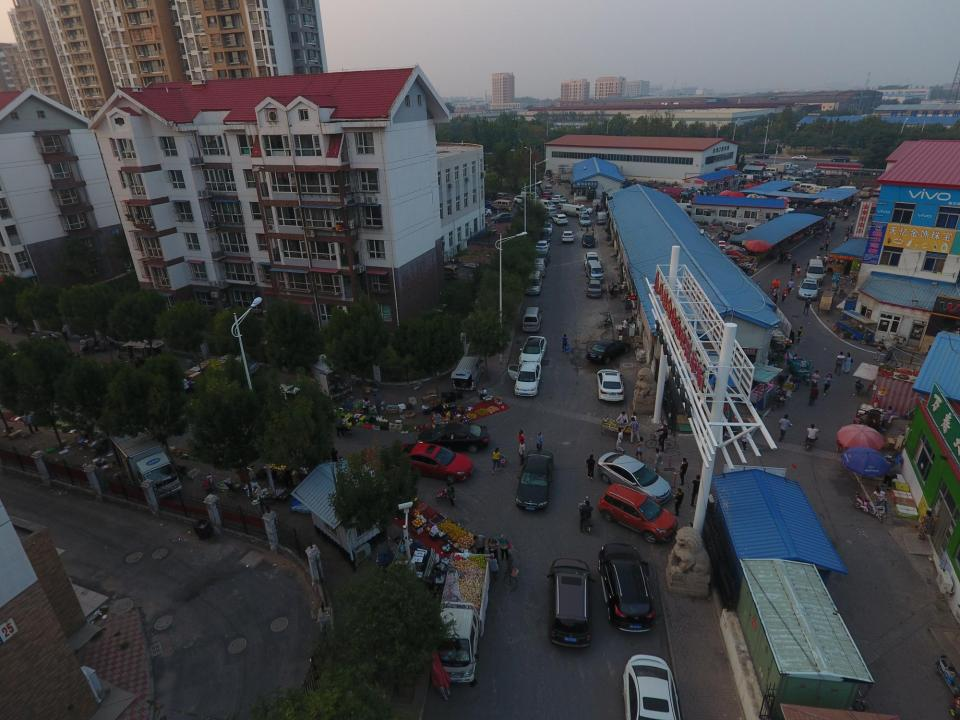car: (599, 542, 657, 634), (599, 484, 678, 542), (547, 556, 596, 648), (624, 652, 682, 720), (599, 450, 673, 502), (390, 442, 474, 484), (417, 423, 487, 455), (516, 450, 552, 510), (452, 354, 484, 391), (587, 339, 632, 364), (596, 367, 626, 404), (511, 362, 538, 399), (519, 334, 548, 366), (521, 306, 540, 334), (796, 277, 818, 301), (807, 258, 825, 282), (585, 278, 601, 300), (722, 219, 745, 234), (561, 204, 587, 217), (584, 258, 602, 276), (529, 255, 545, 272), (491, 198, 512, 210), (534, 238, 550, 252), (526, 275, 538, 293), (491, 212, 512, 222), (520, 190, 538, 201), (582, 233, 595, 247), (538, 198, 554, 209), (539, 221, 552, 234), (584, 251, 598, 263), (561, 228, 573, 242), (578, 212, 590, 225), (552, 212, 565, 224), (540, 207, 556, 216), (790, 154, 808, 161), (752, 152, 770, 159), (831, 156, 851, 162), (591, 198, 601, 209), (513, 195, 528, 202), (552, 195, 566, 202), (596, 211, 604, 223)
truck: (429, 550, 491, 684), (107, 422, 180, 498)
van: (116, 339, 165, 365)
